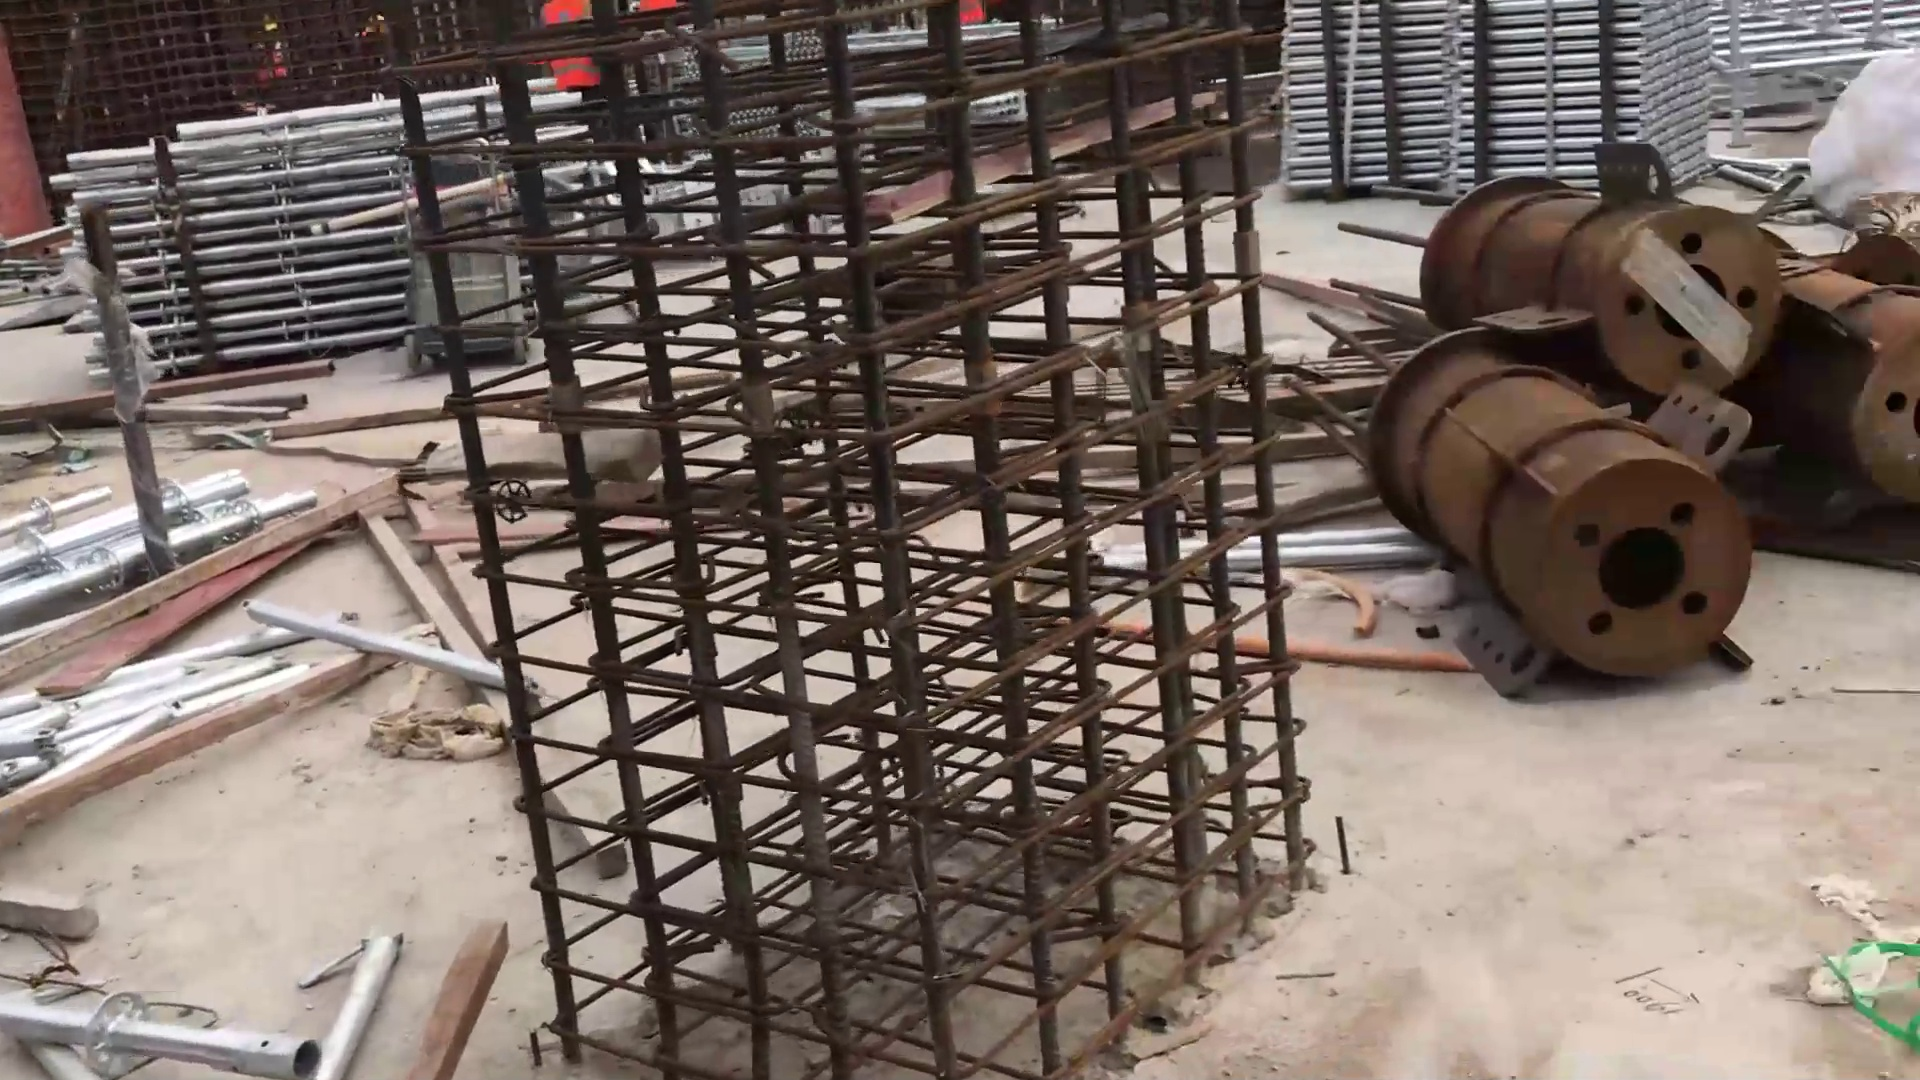scaffold: (47, 76, 481, 375), (1253, 1, 1731, 207)
